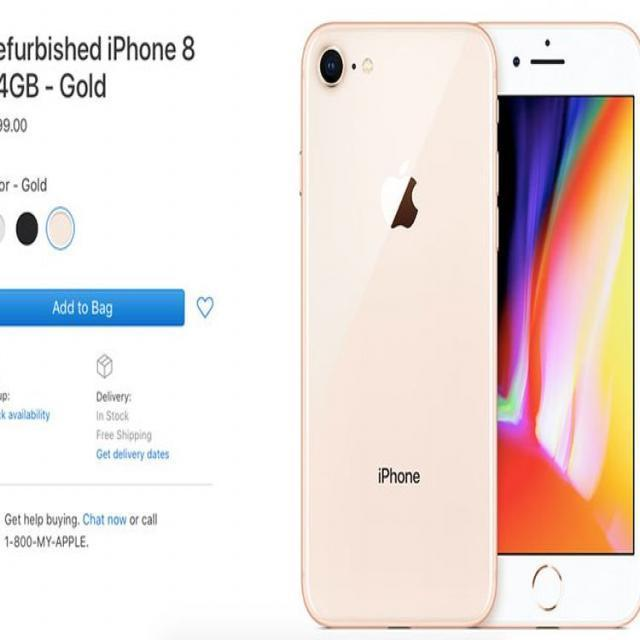phone: (295, 19, 503, 633)
